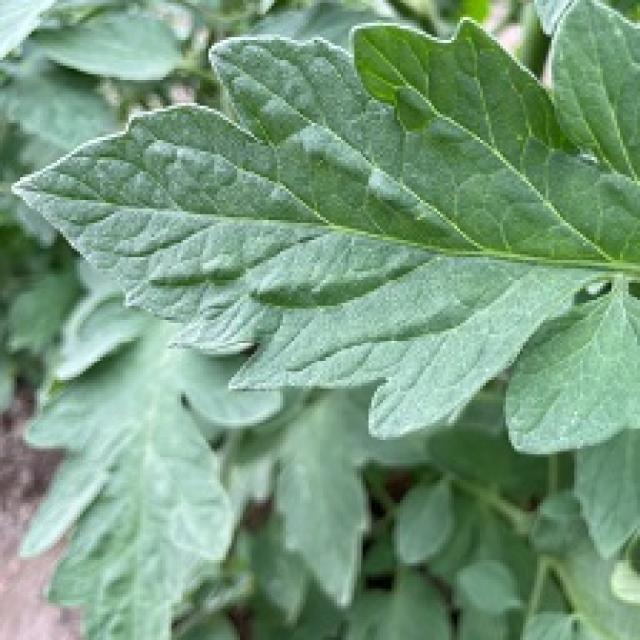Healthy: (15, 2, 640, 456)
